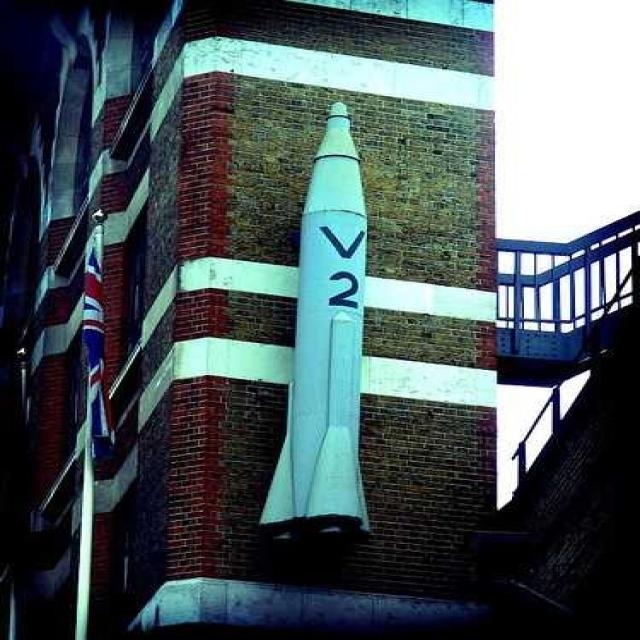missile: (254, 95, 372, 541)
